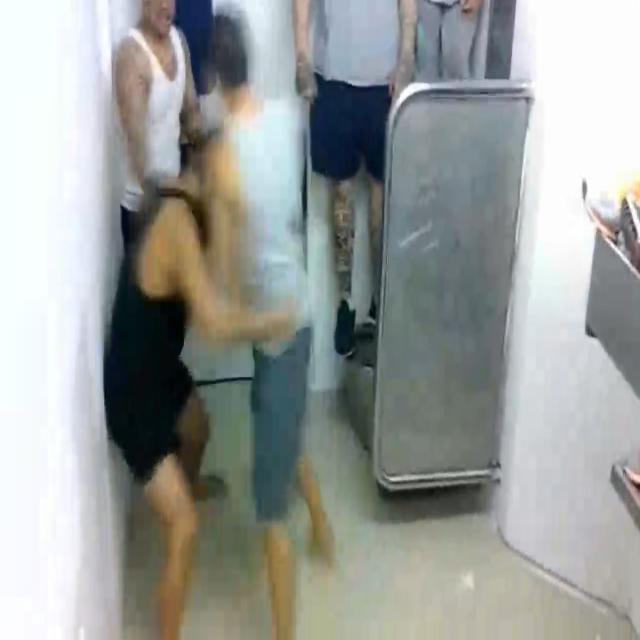fight: (101, 4, 315, 640)
